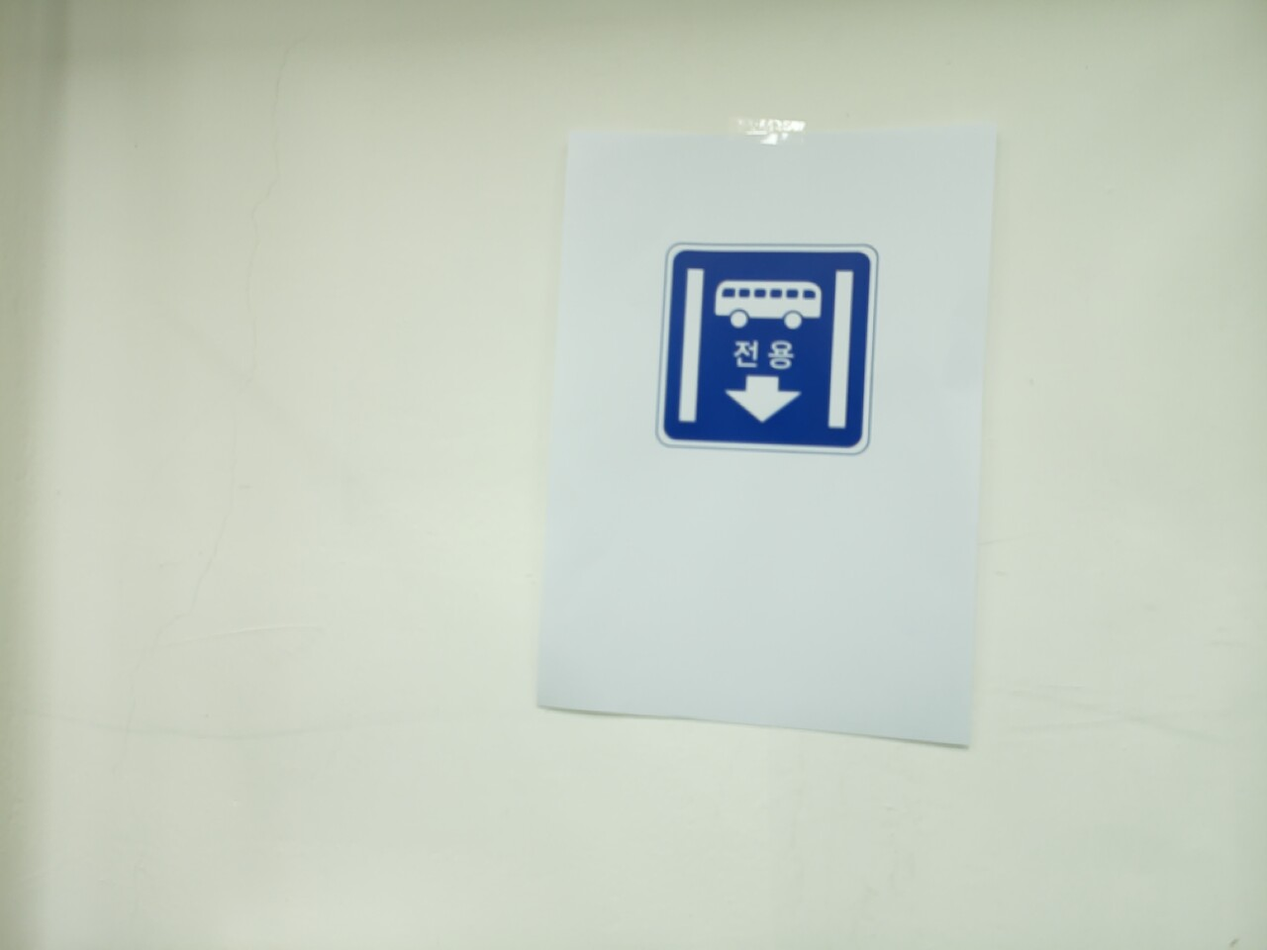bus_only_lane: (655, 241, 879, 456)
